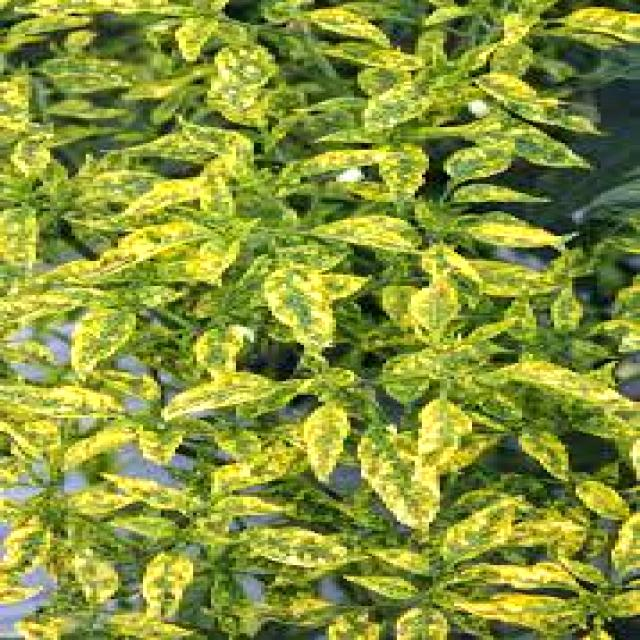yellowish leaf: (10, 7, 640, 638)
